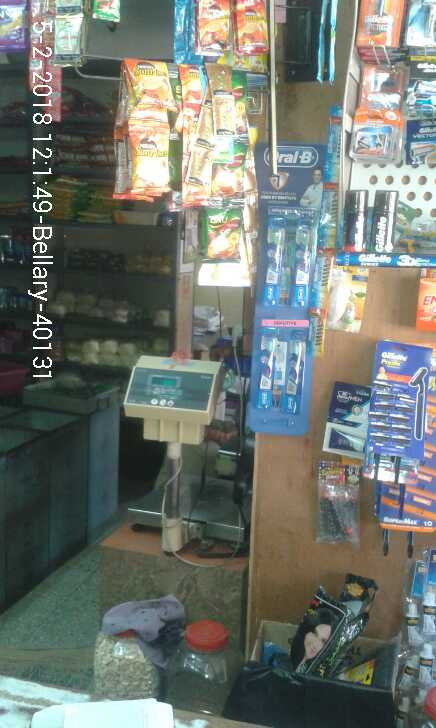beauty: (377, 176, 404, 255), (343, 189, 366, 252)
pharmacy: (365, 349, 427, 454), (261, 214, 285, 312), (291, 216, 316, 308), (287, 336, 309, 419), (252, 332, 275, 407)
